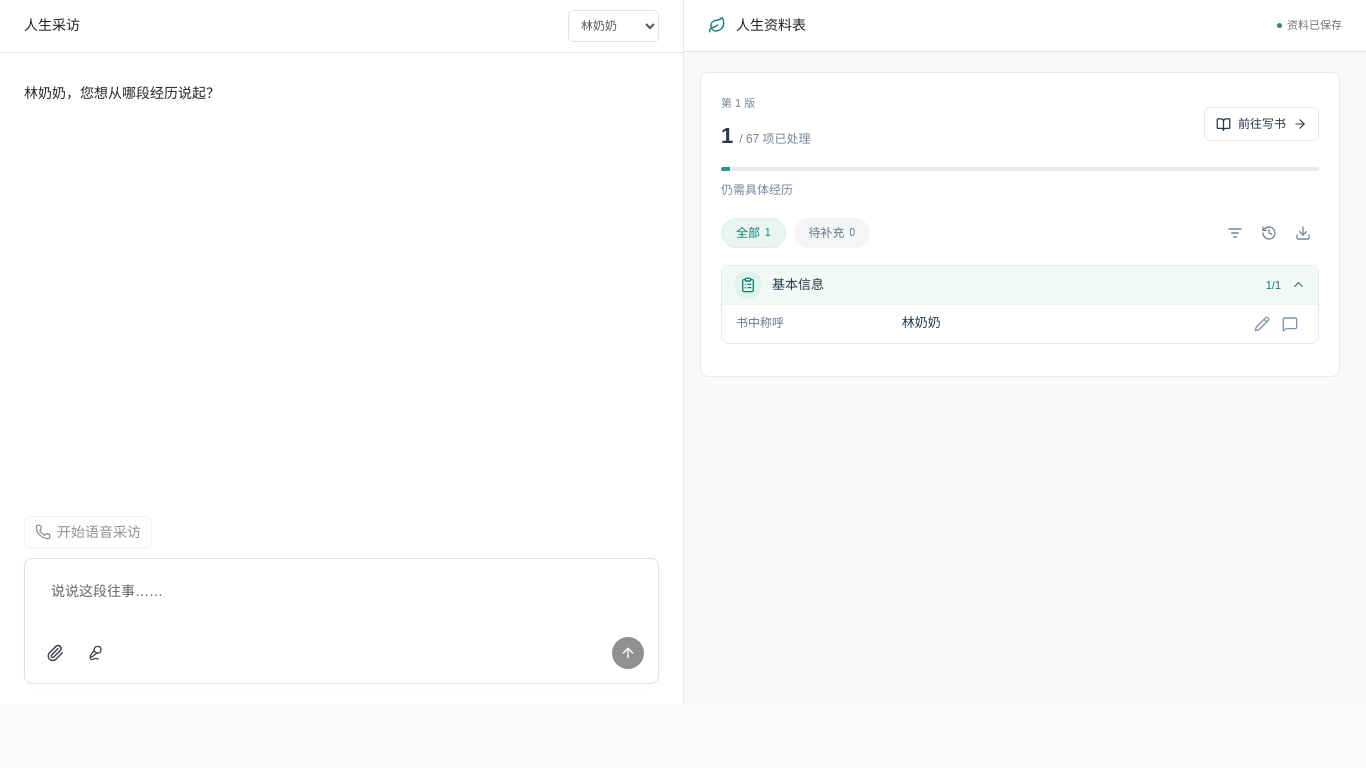
Test: keeps the interview draft when changing people and returning
The width and height of the screenshot is (1366, 768).
Type "还没发送的往事" into the text box labelled "说说这段往事" at [342, 605], box [39,573,644,637]
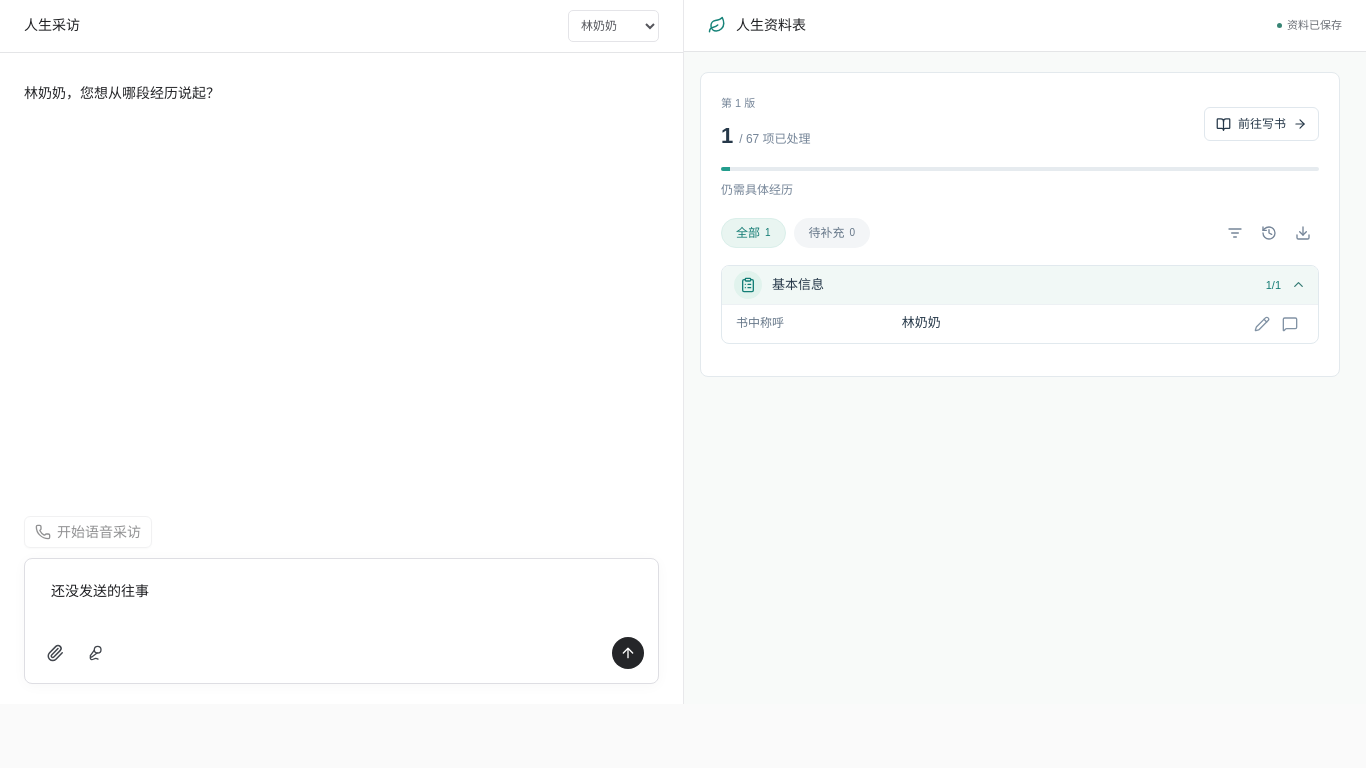
Select "王叔叔" in the dropdown named "采访人物" at [614, 26], box [568,10,659,42]
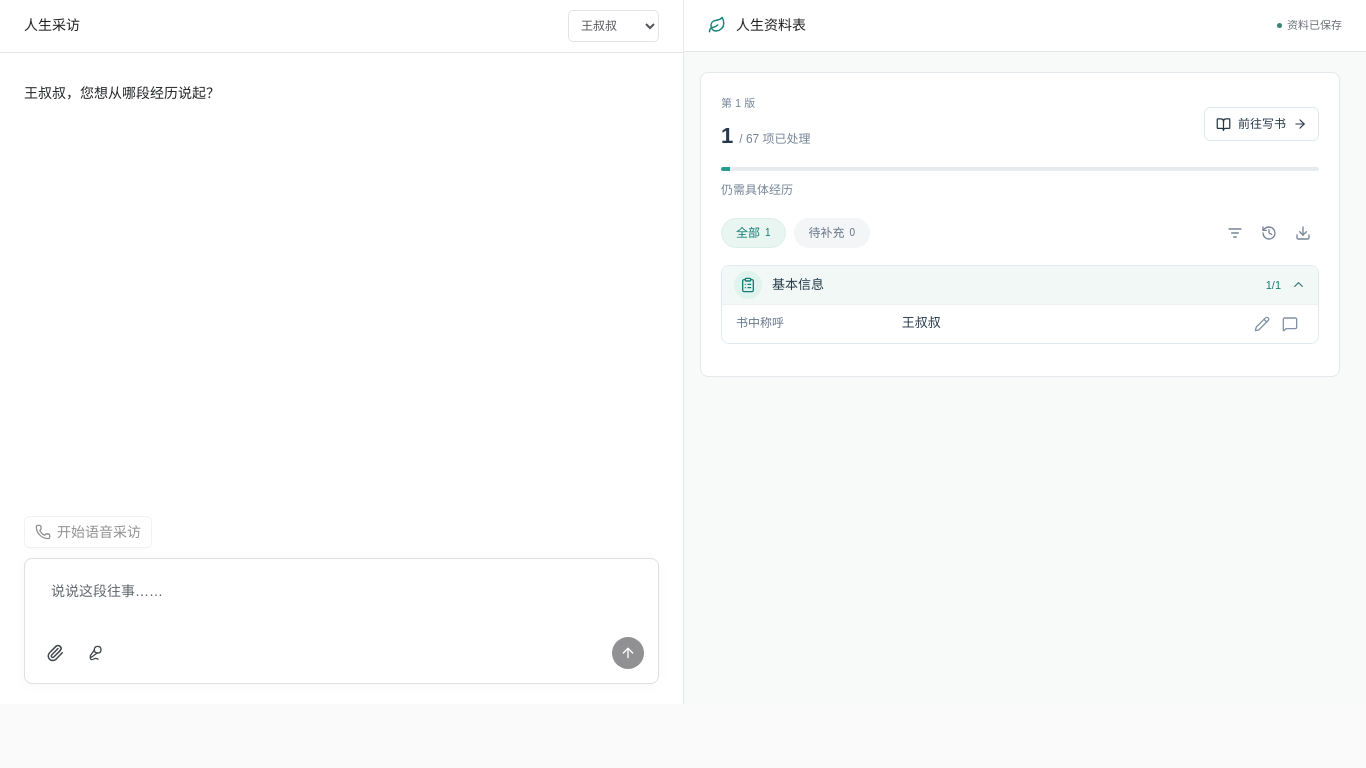
Expected: the text "王叔叔，您想从哪段经历说起？" is shown, [24,81,220,106]
Expected: the text box labelled "说说这段往事" is empty, [39,573,644,637]
Select "林奶奶" in the dropdown named "采访人物" at [614, 26], box [568,10,659,42]
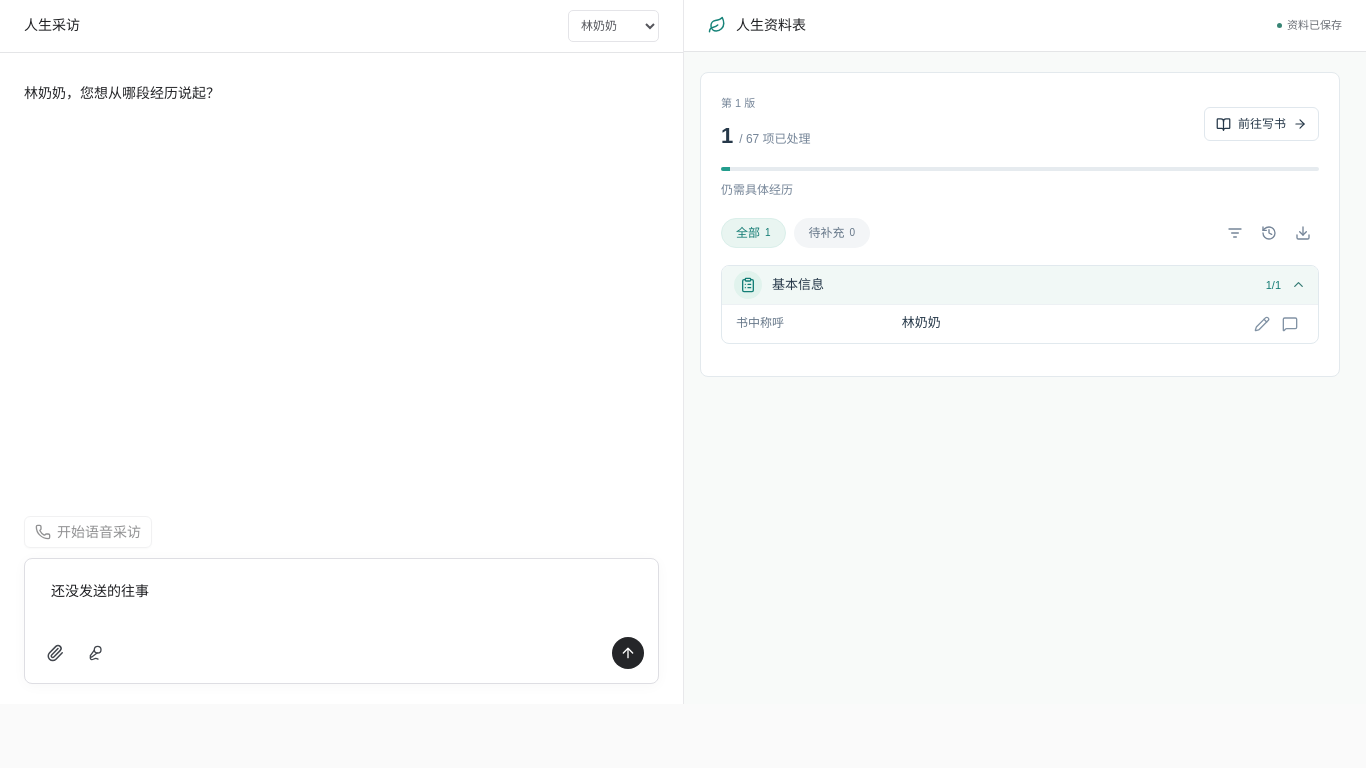
Expected: the text "林奶奶，您想从哪段经历说起？" is shown, [24,81,220,106]
Expected: the text box named "说说这段往事" holds "还没发送的往事", [39,573,644,637]
